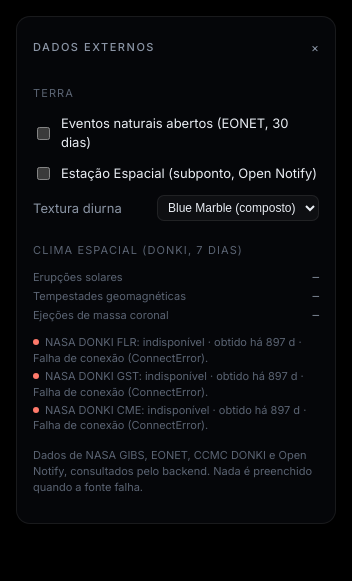
Test: LivePanel › mostra a falha da fonte em vez de valores
This screenshot has width=352, height=581.
Check: the text "NASA DONKI FLR: indisponível" is shown, box [33,335,319,367]
Check: the text "—" is shown 3 times, box [312,270,319,284]; [312,289,319,303]; [312,308,319,322]
What coordinates should you click on to do the following:
click the checkbox labelled "Estação Espacial (subponto, Open Notify)"
I would click on:
 (44, 174)
Its box is [37,167,50,180].
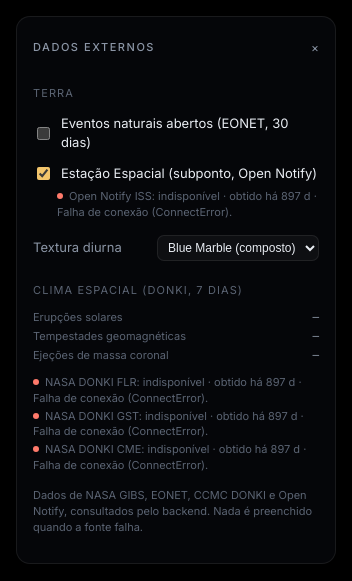
Check: the text "Open Notify ISS: indisponível" is shown, box [57,189,319,221]
